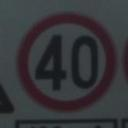speed_limit_40: (18, 15, 116, 110)
